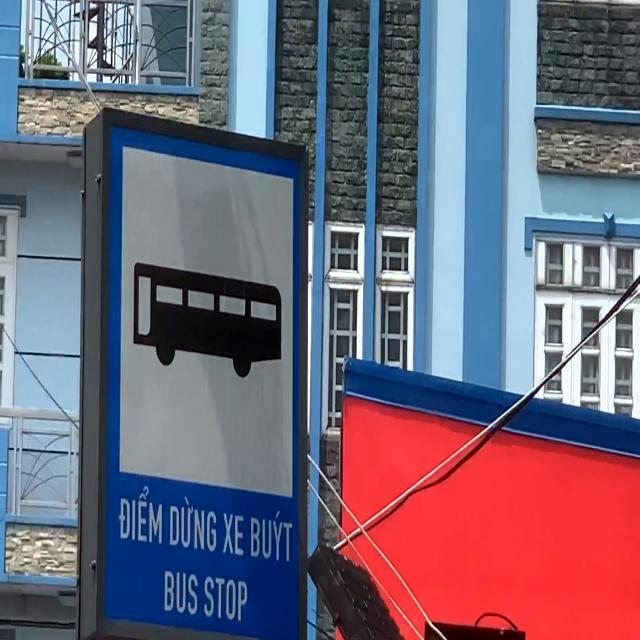Ben xe buyt: (104, 119, 306, 640)
